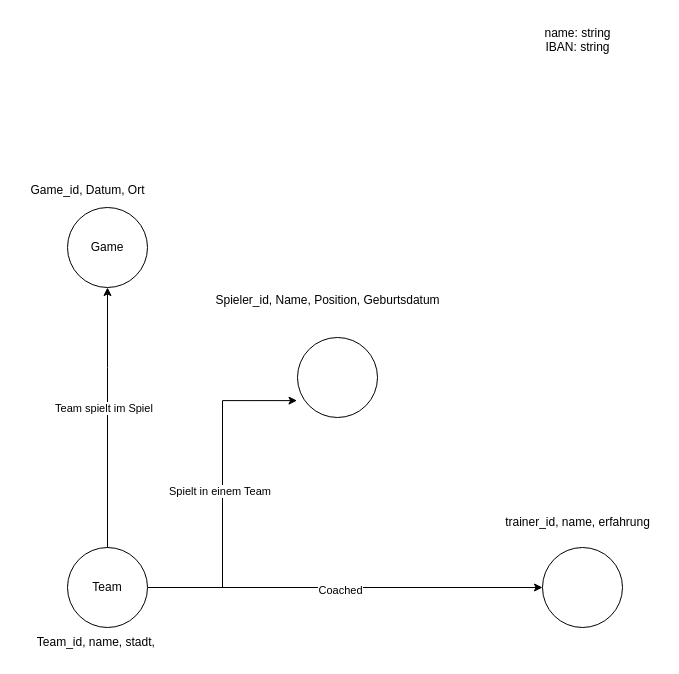
The diagram is 679 pixels wide and 674 high, and some of its shapes have lost their labels. The shapes that lost their labels are listed below. From the top down, each one's centre as x and y in pixels, then its label:
At [337,377]: "PLayer".
At [582,587]: "Coach".
